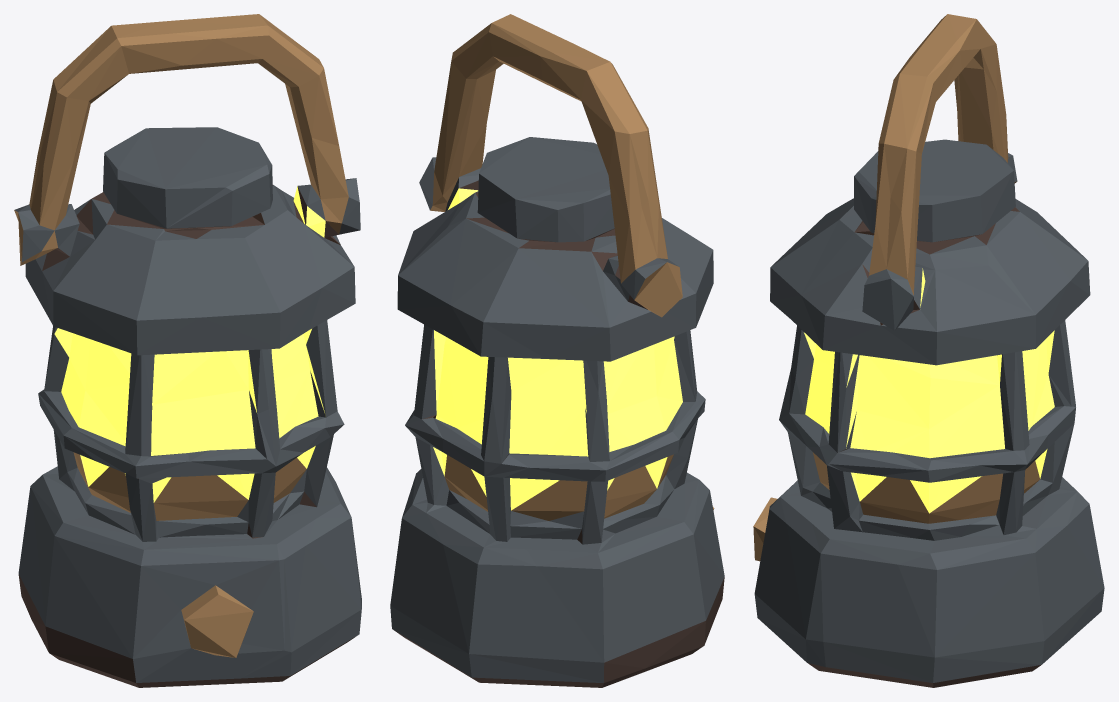
The model's file is prop_hand_lantern.glb.
The picture shows the model from 3 angles, left to right: view 1: azimuth 30°, elevation 25°; view 2: azimuth 150°, elevation 25°; view 3: azimuth 270°, elevation 25°; orthographic projection. The views are drawn at different scales.
Visible parts, largest first — view 1: PropHandLanternBody; view 2: PropHandLanternBody; view 3: PropHandLanternBody.
Boxes of the visible parts, <box> form: PropHandLanternBody: <box>14,14,361,687</box>; PropHandLanternBody: <box>390,14,724,687</box>; PropHandLanternBody: <box>753,14,1104,687</box>.
Size of the model in its own units: 0.527 by 1 by 0.5499.
